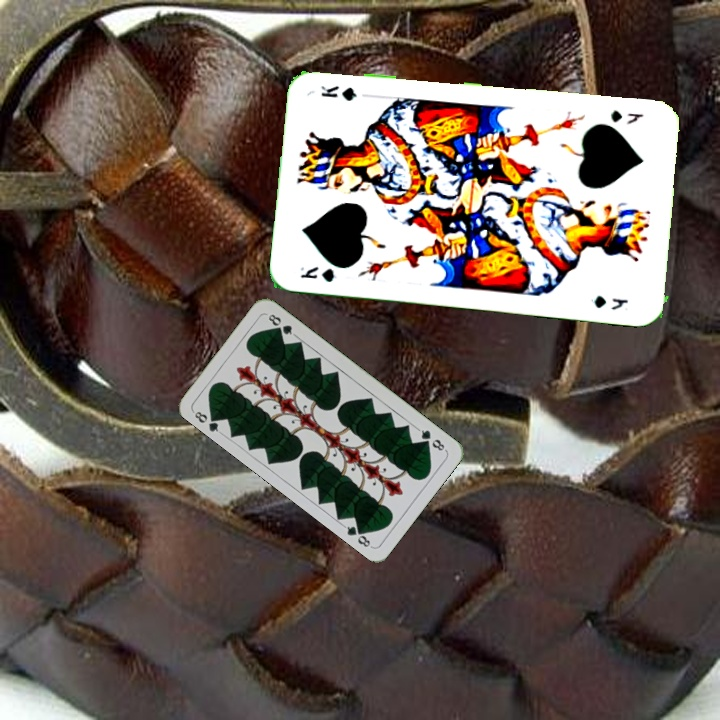G8: (189, 407, 224, 437), (414, 425, 448, 454)
GK: (296, 262, 340, 284), (606, 106, 646, 126)
